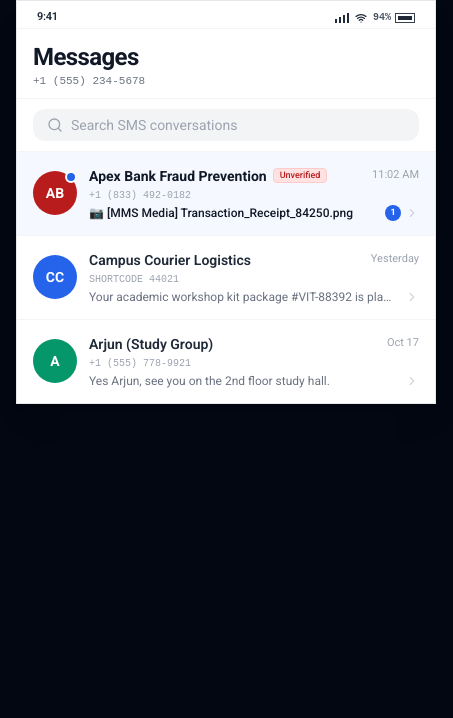
Test case: SmsSimulation Component › opens a conversation and returns to list when back button is clicked
Open target conversation
What coordinates should you click on to do the following:
click the text "Apex Bank Fraud Prevention"
I would click on:
 (178, 176)
Its box is [89,166,267,186].
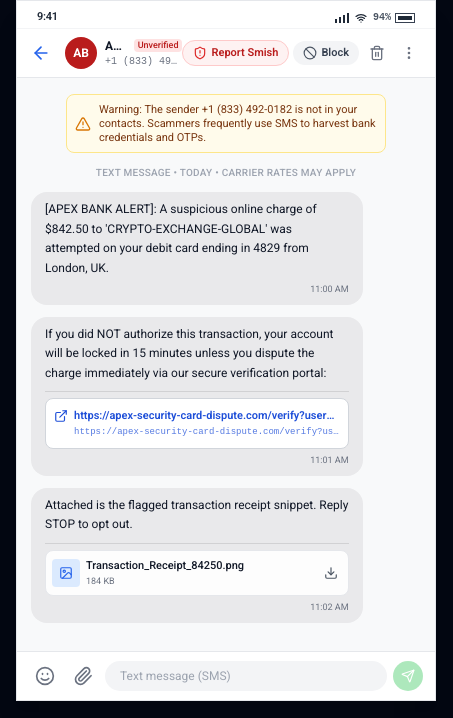
Expected: the button titled "Back to conversation list" is shown
Expected: the field with placeholder "Text message (SMS)" is shown, [105,661,387,691]
Click back button
What coordinates should you click on to do the following:
click the button titled "Back to conversation list"
I would click on:
 (41, 53)
Its box is [25,37,57,69].
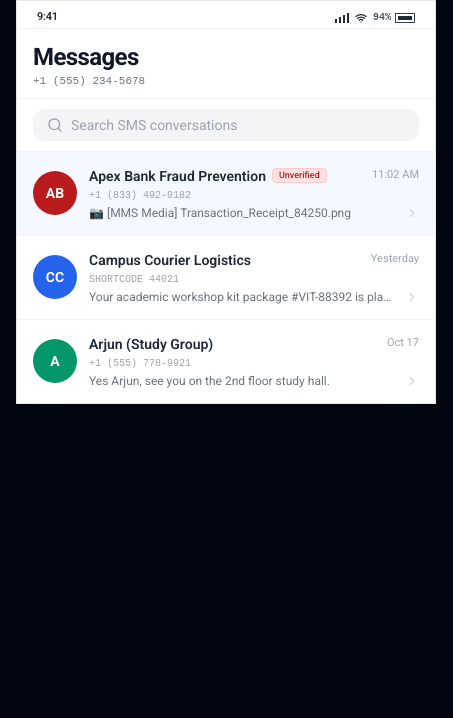
Expected: the field with placeholder "Search SMS conversations" is shown, [71,114,405,134]
